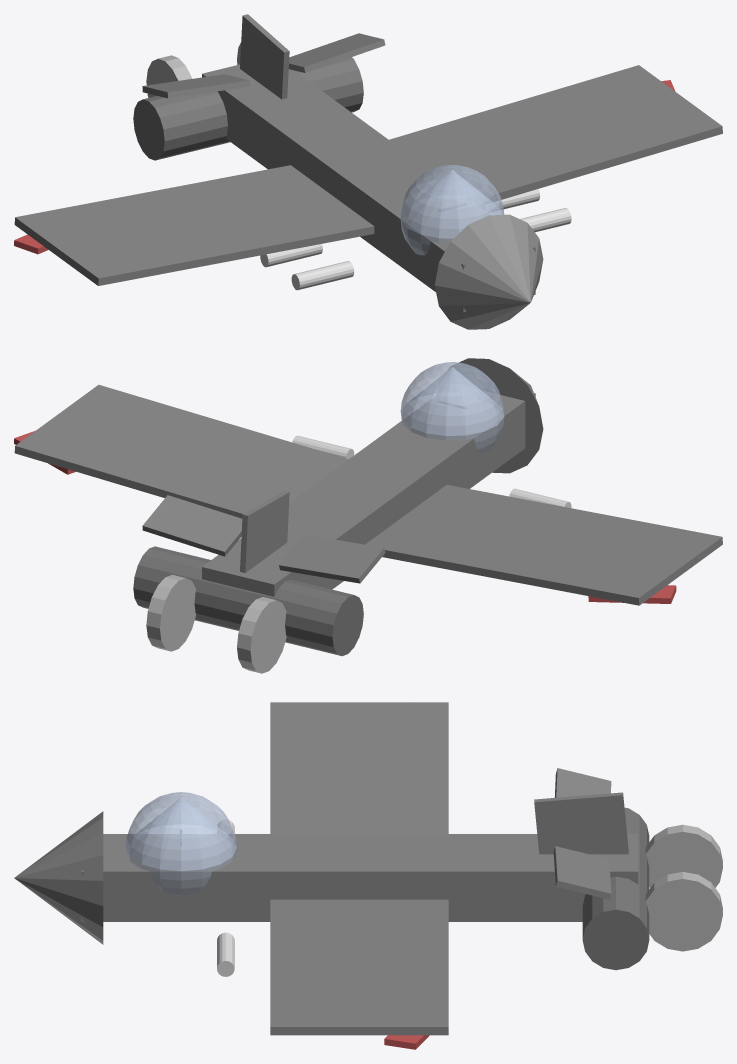
Rendered from fighter_jet_fleet.glb.
3 renders of one model, top to bottom at view 1: azimuth 30°, elevation 25°; view 2: azimuth 150°, elevation 25°; view 3: azimuth 270°, elevation 25°, orthographic. The views are drawn at different scales.
Visible parts, largest first — view 1: left_wing, right_wing, fuselage, nose_cone, cockpit, left_engine, tail_fin, right_engine, right_tail_stab, left_tail_stab, left_missile_1, left_engine_nozzle (+2 smaller); view 2: left_wing, right_wing, fuselage, cockpit, left_engine, right_engine, right_tail_stab, left_tail_stab, nose_cone, right_engine_nozzle, left_engine_nozzle, tail_fin (+2 smaller); view 3: fuselage, right_wing, left_wing, cockpit, nose_cone, tail_fin, right_engine, right_engine_nozzle, left_engine_nozzle, right_tail_stab, left_tail_stab, left_engine (+1 smaller).
Boxes of the visible parts, <box> form: left_wing: <box>14,165,374,285</box>; right_wing: <box>389,65,722,201</box>; fuselage: <box>202,64,535,312</box>; nose_cone: <box>434,214,543,329</box>; cockpit: <box>400,165,504,255</box>; left_engine: <box>133,91,230,160</box>; tail_fin: <box>240,14,289,99</box>; right_engine: <box>294,57,363,112</box>; right_tail_stab: <box>288,33,385,72</box>; left_tail_stab: <box>142,74,250,98</box>; left_missile_1: <box>291,261,354,290</box>; left_engine_nozzle: <box>146,55,192,97</box>; left_wing: <box>365,485,722,605</box>; right_wing: <box>14,384,348,518</box>; fuselage: <box>202,391,535,596</box>; cockpit: <box>400,362,504,452</box>; left_engine: <box>224,579,363,656</box>; right_engine: <box>133,546,246,629</box>; right_tail_stab: <box>142,495,242,556</box>; left_tail_stab: <box>279,534,385,583</box>; nose_cone: <box>448,358,543,473</box>; right_engine_nozzle: <box>146,575,196,651</box>; left_engine_nozzle: <box>237,597,286,673</box>; tail_fin: <box>240,491,289,572</box>; fuselage: <box>81,834,638,921</box>; right_wing: <box>270,899,448,1035</box>; left_wing: <box>270,702,448,833</box>; cockpit: <box>125,792,236,896</box>; nose_cone: <box>14,811,103,944</box>; tail_fin: <box>534,792,628,854</box>; right_engine: <box>582,861,649,970</box>; right_engine_nozzle: <box>645,872,722,951</box>; left_engine_nozzle: <box>645,824,722,887</box>; right_tail_stab: <box>553,846,611,899</box>; left_tail_stab: <box>554,768,611,797</box>; left_engine: <box>624,807,649,889</box>.
Bounding box in the file's own units: 7.26 × 1.43 × 6.36.
